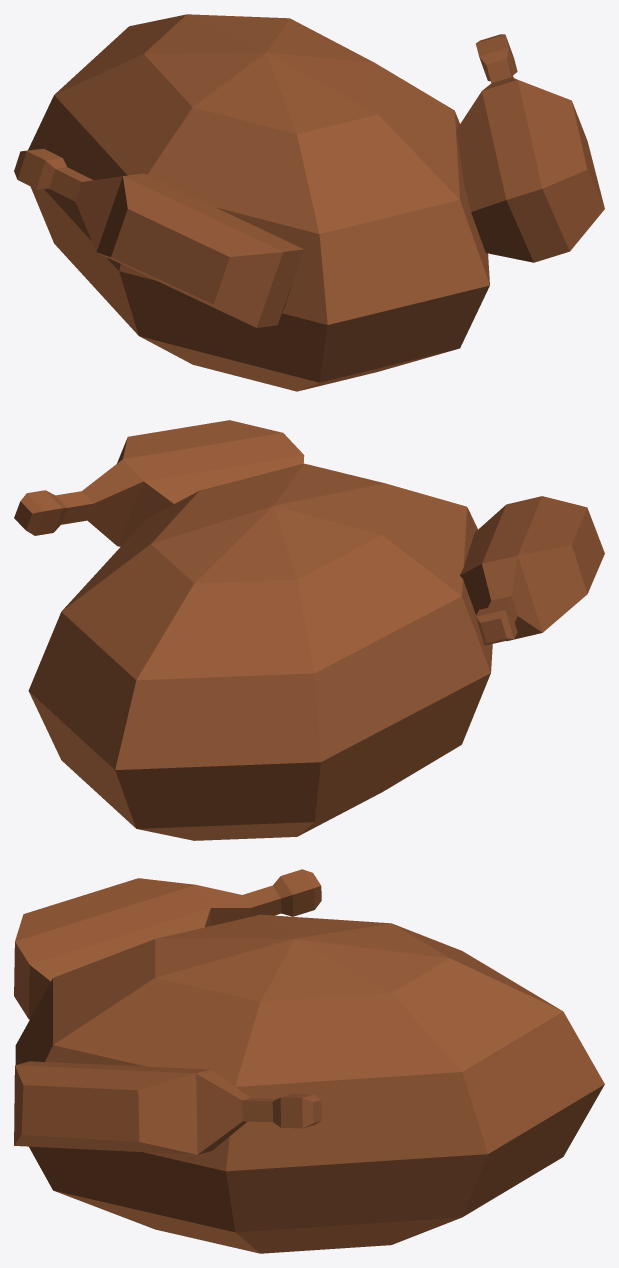
Rendered from Chicken.fbx.
3 views of the same model, one above another, from view 1: azimuth 30°, elevation 25°; view 2: azimuth 150°, elevation 25°; view 3: azimuth 270°, elevation 25° (orthographic). The views are drawn at different scales.
Visible parts, largest first — view 1: Sphere.002; view 2: Sphere.002; view 3: Sphere.002.
Boxes of the visible parts, x1,y1,x2,y2 form: Sphere.002: [14, 14, 604, 391]; Sphere.002: [14, 420, 604, 840]; Sphere.002: [14, 869, 604, 1253].
Bounding box in the file's own units: 90.43 × 51.68 × 95.16.
